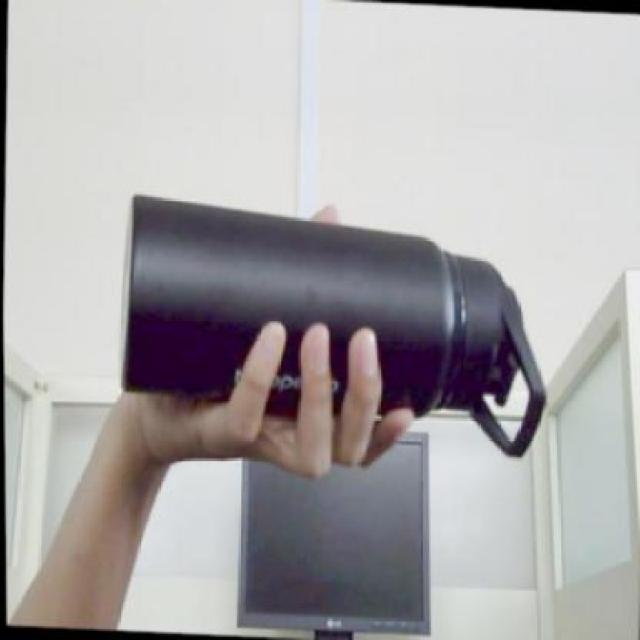Metal: (117, 191, 451, 420)
